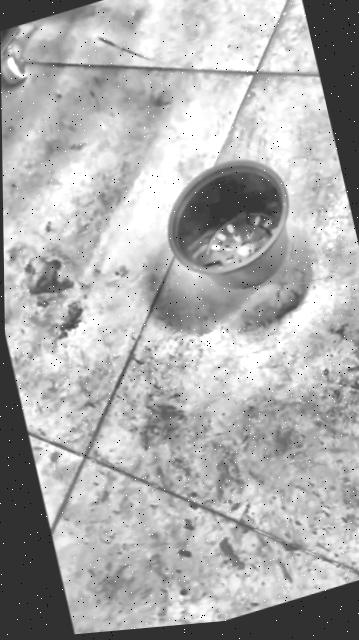pot: (155, 146, 303, 310)
